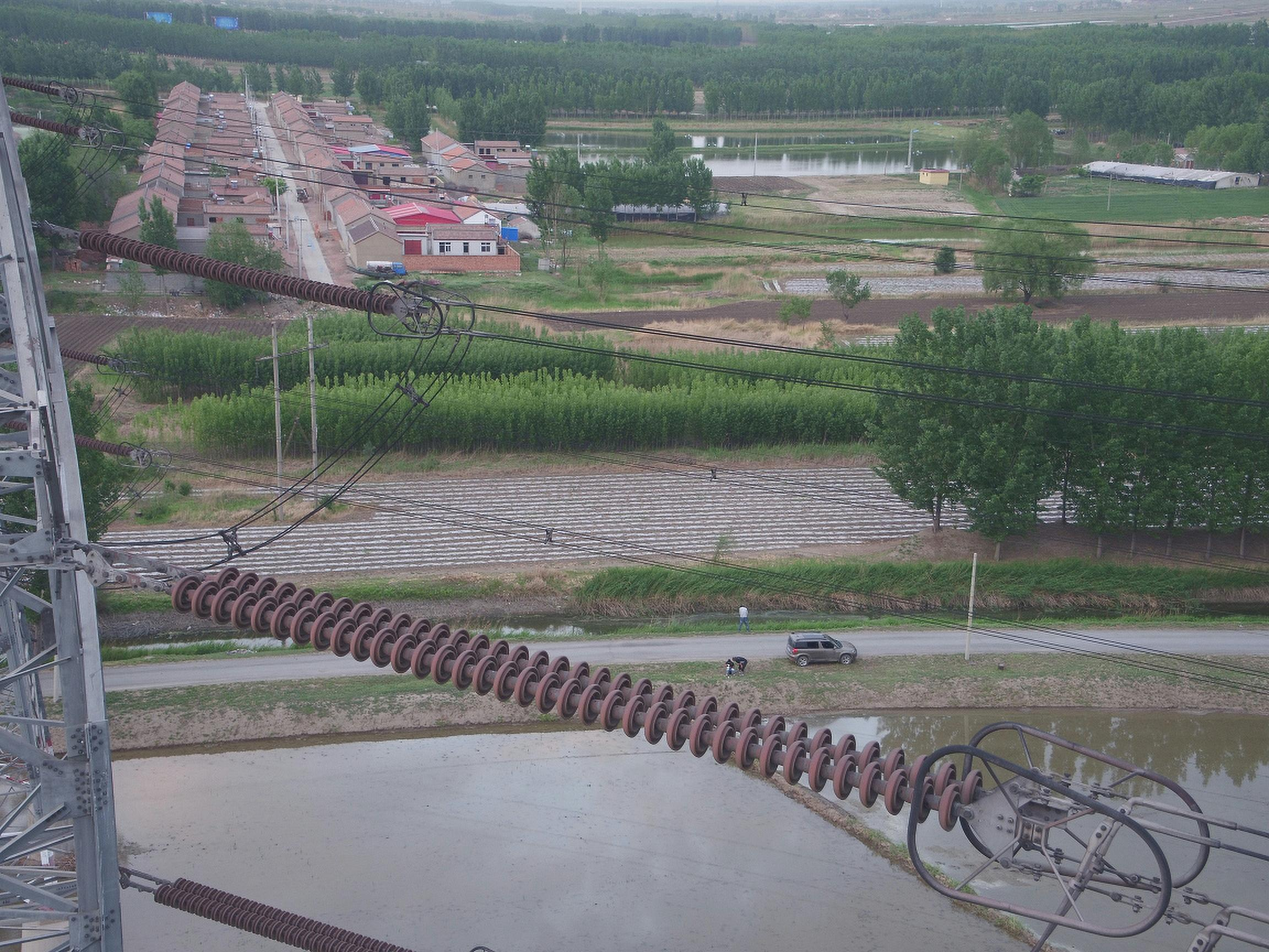insulator: (165, 562, 989, 835), (77, 228, 399, 318), (151, 876, 424, 952), (4, 418, 133, 458), (8, 109, 83, 136), (1, 74, 63, 98), (59, 346, 110, 367)
